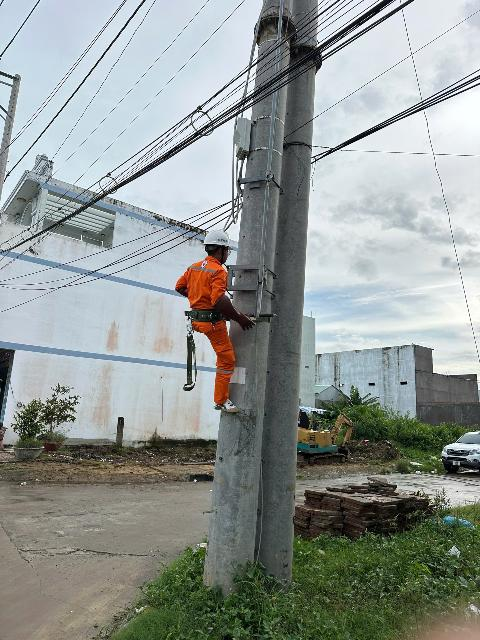gloves: (218, 290, 260, 335)
harness: (182, 303, 228, 328)
helmet: (199, 225, 239, 254)
shoes: (209, 397, 245, 415)
